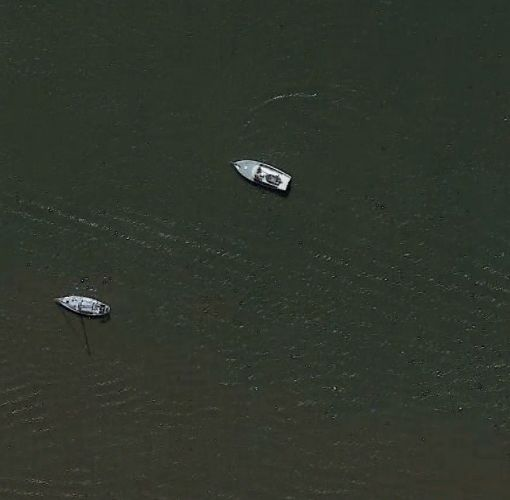boat: (232, 158, 293, 194), (55, 294, 112, 318)
